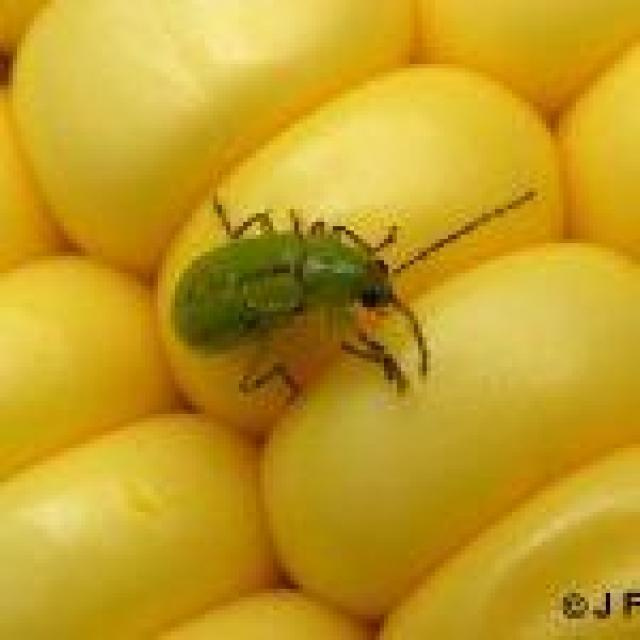gusano_gris: (172, 188, 540, 410)
